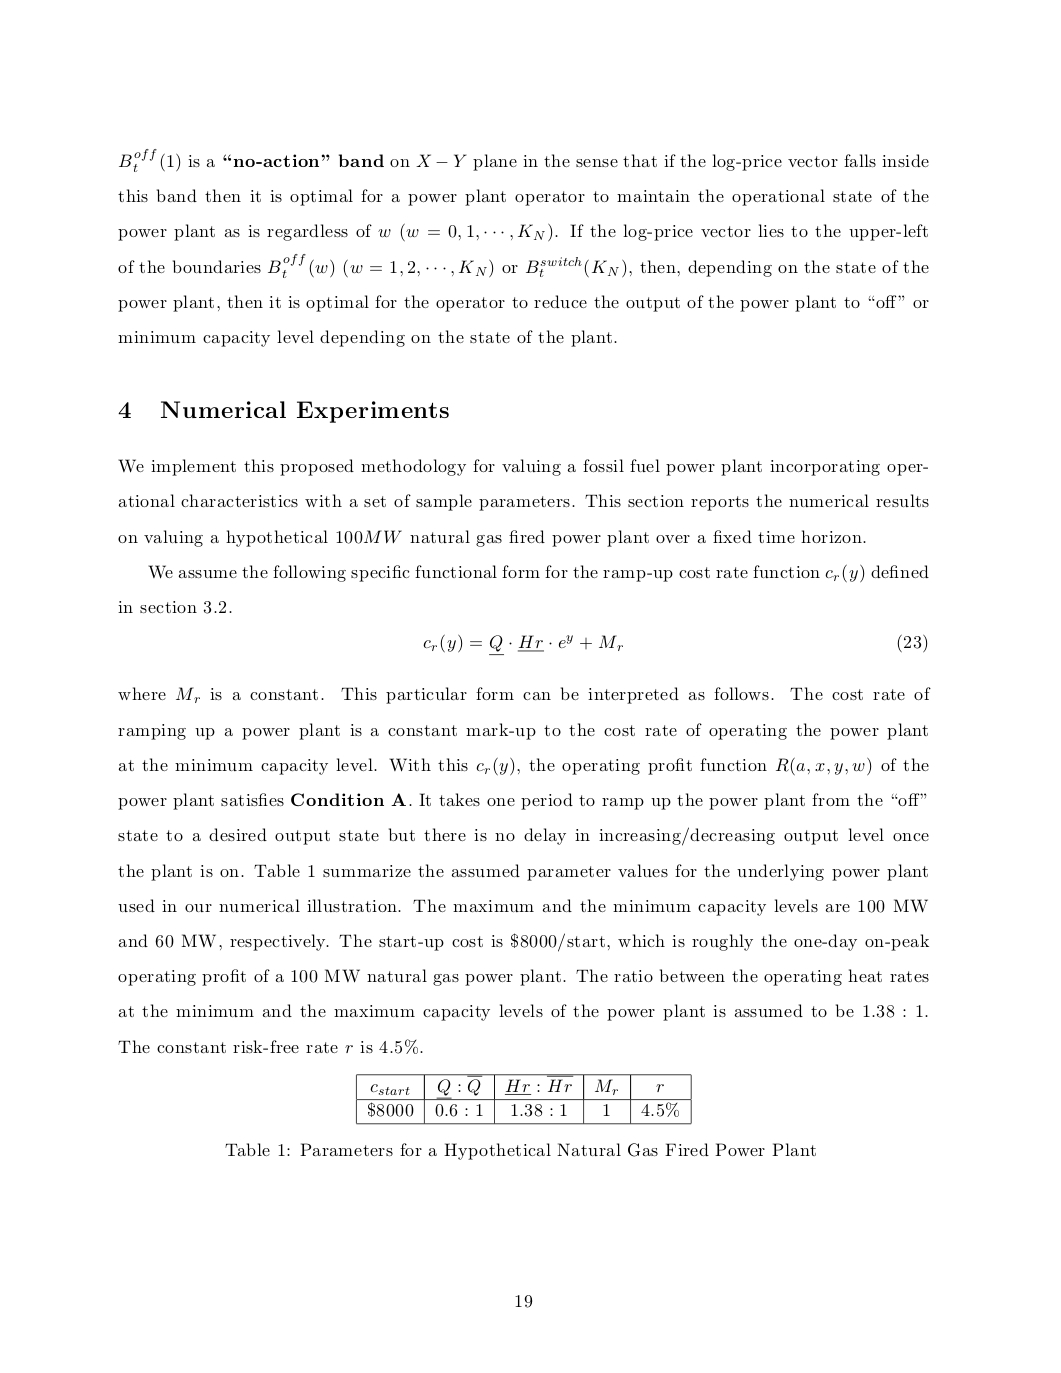Table: (356, 1072, 691, 1124)
formula: (424, 633, 927, 653)
